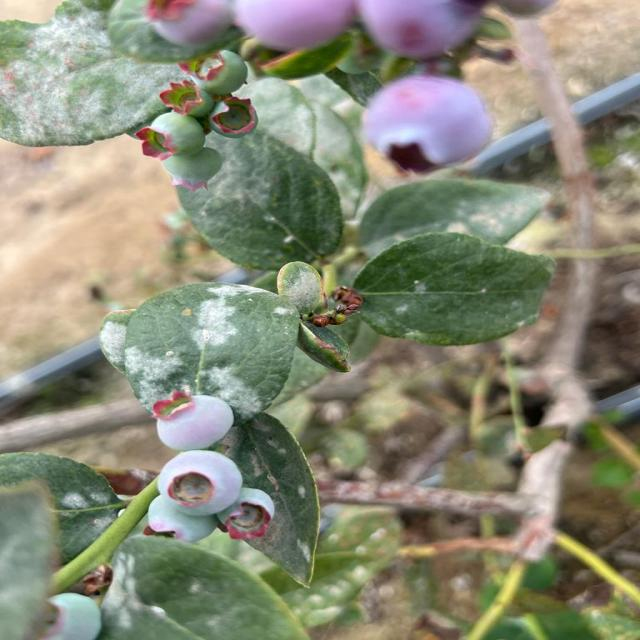Hojas con oidiosis: (166, 109, 348, 275), (0, 0, 198, 149), (120, 280, 305, 428), (186, 403, 325, 592), (346, 232, 557, 346), (274, 256, 328, 314)
